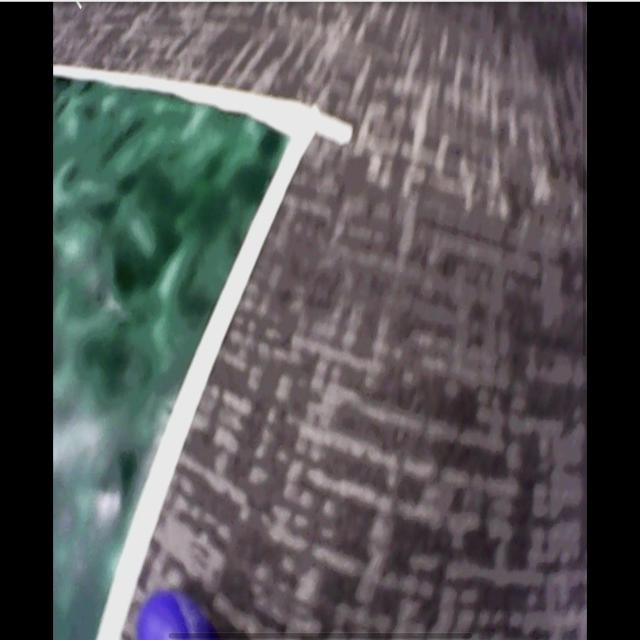ball: (136, 594, 219, 640)
